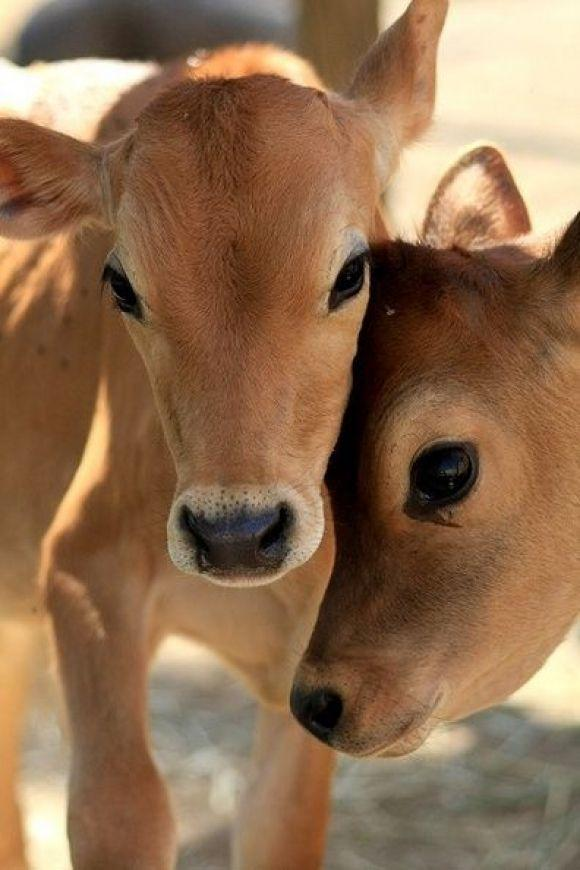muzzles: (155, 469, 332, 602)
